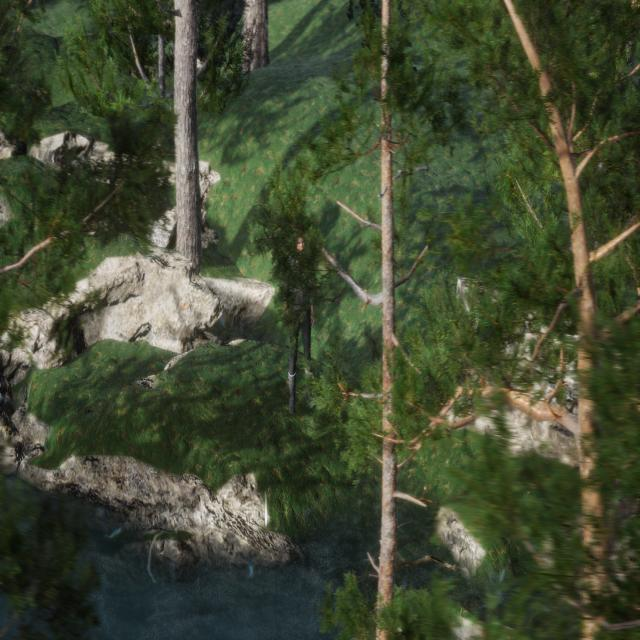Human: (281, 225, 318, 419)
